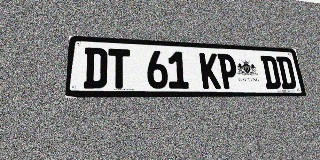1: (167, 51, 189, 89)
6: (146, 50, 168, 89)
D: (83, 47, 107, 88), (260, 55, 282, 89), (276, 56, 297, 89)
K: (199, 53, 221, 89)
P: (217, 53, 239, 89)
T: (108, 48, 130, 88)
